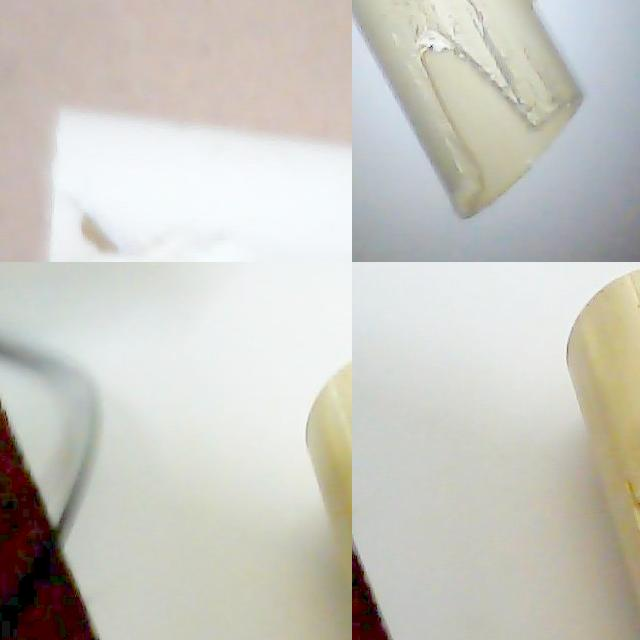Defective: (410, 22, 534, 189), (34, 161, 168, 262)
T Joint: (352, 0, 586, 222), (47, 108, 352, 262), (565, 271, 640, 620)
